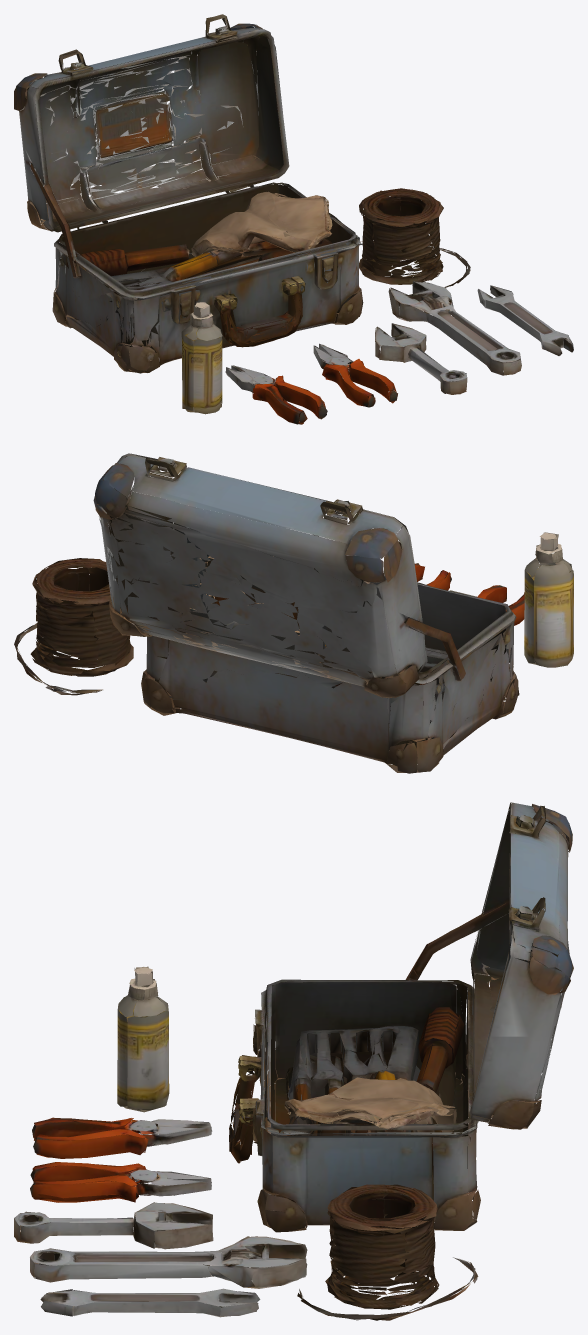
File: prop-petar-toolbox.glb
3 renders of one model, top to bottom at view 1: azimuth 30°, elevation 25°; view 2: azimuth 150°, elevation 25°; view 3: azimuth 270°, elevation 25°, orthographic. The views are drawn at different scales.
Visible parts, largest first — view 1: prop-petar-toolbox; view 2: prop-petar-toolbox; view 3: prop-petar-toolbox.
Boxes of the visible parts, x1=… form: prop-petar-toolbox: x1=14, y1=14, x2=573, y2=424; prop-petar-toolbox: x1=14, y1=453, x2=573, y2=773; prop-petar-toolbox: x1=14, y1=802, x2=573, y2=1320.
Bounding box in the file's own units: 0.5017 × 0.3062 × 0.5.
Materials: 1 (1 with a texture image).
